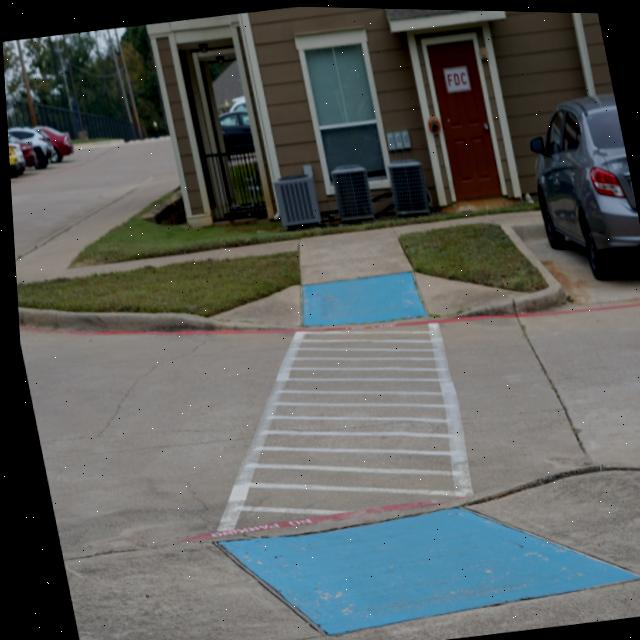Automobile: (527, 91, 640, 276), (6, 125, 73, 177), (218, 96, 253, 167)
Road: (15, 210, 640, 557), (8, 140, 171, 255)
Sidewalk: (57, 467, 640, 640), (212, 225, 535, 326), (12, 172, 297, 284)
